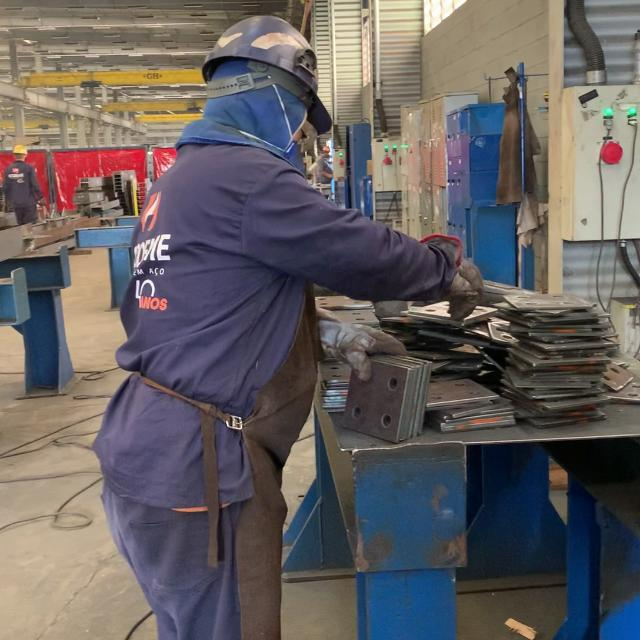face-shield: (445, 243, 485, 326)
glove: (198, 13, 338, 137)
mask: (93, 14, 488, 637)
